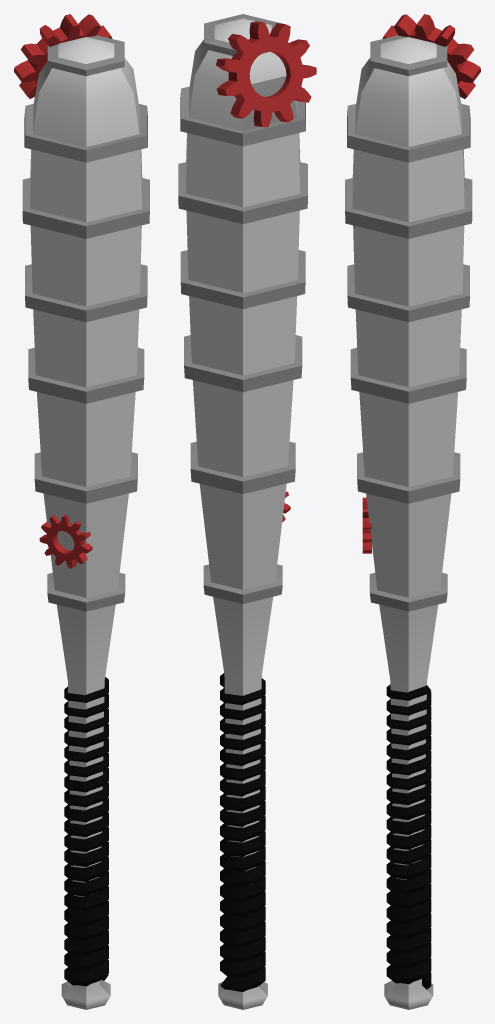
Rendered from Bat.fbx.
3 views of the same model, side by side, from view 1: azimuth 30°, elevation 25°; view 2: azimuth 210°, elevation 25°; view 3: azimuth 330°, elevation 25° (orthographic).
Parts seen in each view (by area): view 1: pCylinder1, pHelix1, pGear1, pGear3; view 2: pCylinder1, pHelix1, pGear1; view 3: pCylinder1, pHelix1, pGear1, pGear3.
Part boxes in pixels (x1=…): pCylinder1: x1=22, y1=35, x2=149, y2=1009; pHelix1: x1=64, y1=677, x2=108, y2=986; pGear1: x1=14, y1=14, x2=112, y2=98; pGear3: x1=39, y1=514, x2=92, y2=568; pCylinder1: x1=178, y1=14, x2=307, y2=1009; pHelix1: x1=220, y1=673, x2=265, y2=991; pGear1: x1=216, y1=21, x2=316, y2=127; pCylinder1: x1=345, y1=35, x2=472, y2=1009; pHelix1: x1=386, y1=684, x2=431, y2=989; pGear1: x1=382, y1=14, x2=480, y2=98; pGear3: x1=362, y1=497, x2=371, y2=553.
Size of the model in its own units: 7.21 by 52.57 by 6.5.
